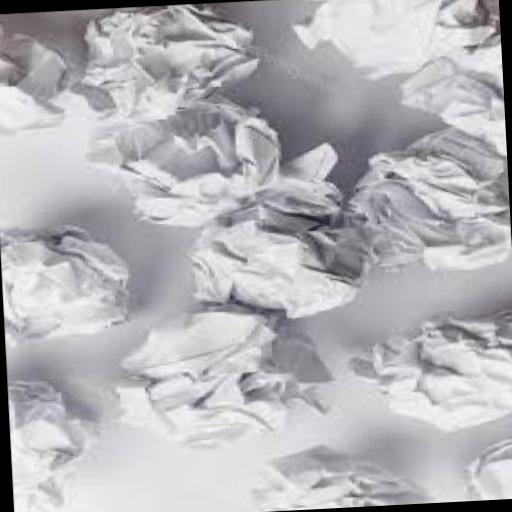paper: (103, 302, 332, 456), (46, 1, 264, 137), (82, 95, 284, 232), (342, 132, 510, 276), (180, 200, 362, 326), (347, 305, 512, 434), (286, 0, 501, 86), (0, 218, 136, 350), (242, 442, 430, 512), (7, 373, 101, 512), (393, 58, 504, 164), (216, 145, 338, 231), (0, 19, 74, 146), (457, 438, 512, 500)
